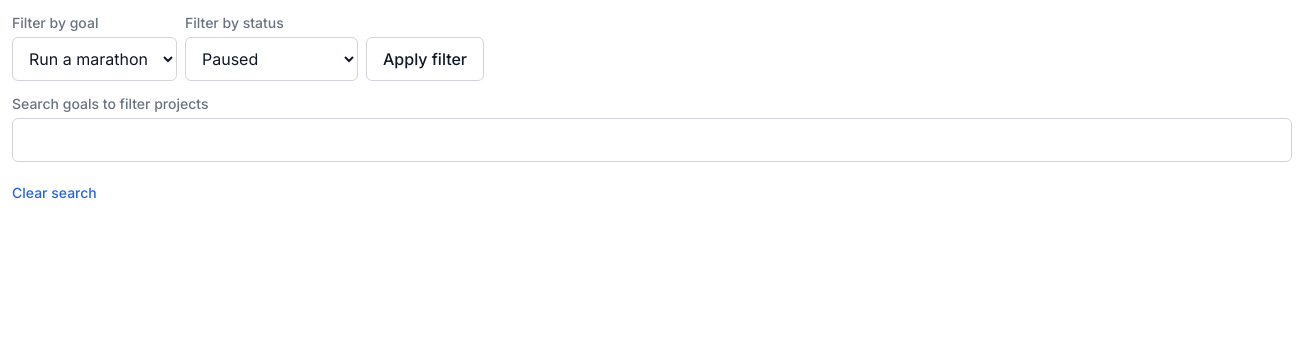
Test: ProjectFilterSelect › filters goal options locally while preserving the applied filter and URL state
expect the dropdown labelled "Filter by goal" shows "Run a marathon": met, box [12,37,177,81]
expect the dropdown labelled "Filter by status" shows "Paused": met, box [185,37,358,81]
Focus the dropdown labelled "Search goals to filter projects": x=652, y=140 [12,118,1292,162]
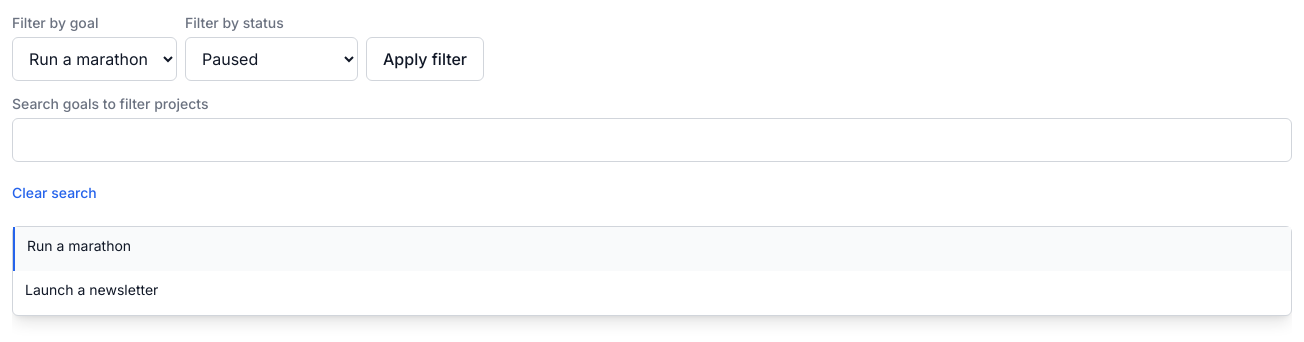
expect the number of options is 2: met, box [13,227,1291,271]; [25,281,158,298]
In the dropdown labelled "Search goals to filter projects": x=652, y=140 [12,118,1292,162], type "NEWSLETTER"
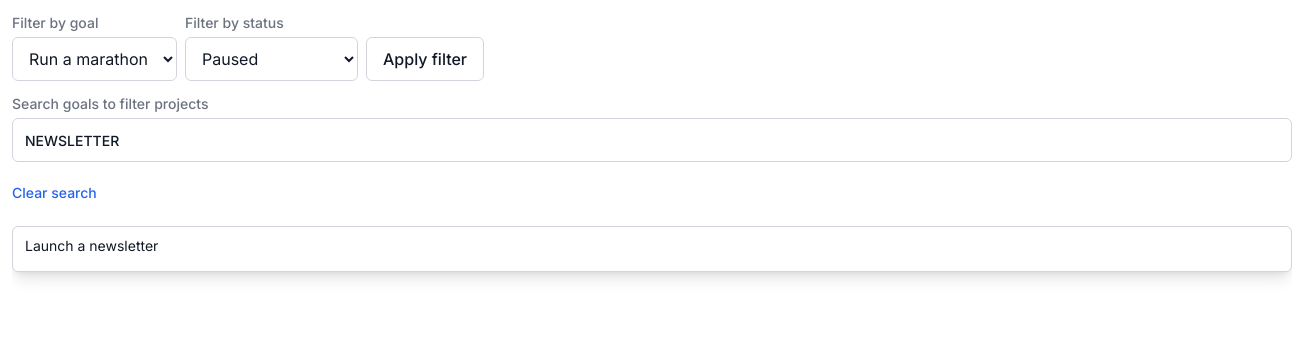
Click the option "Launch a newsletter": x=92, y=246 [25,237,158,254]
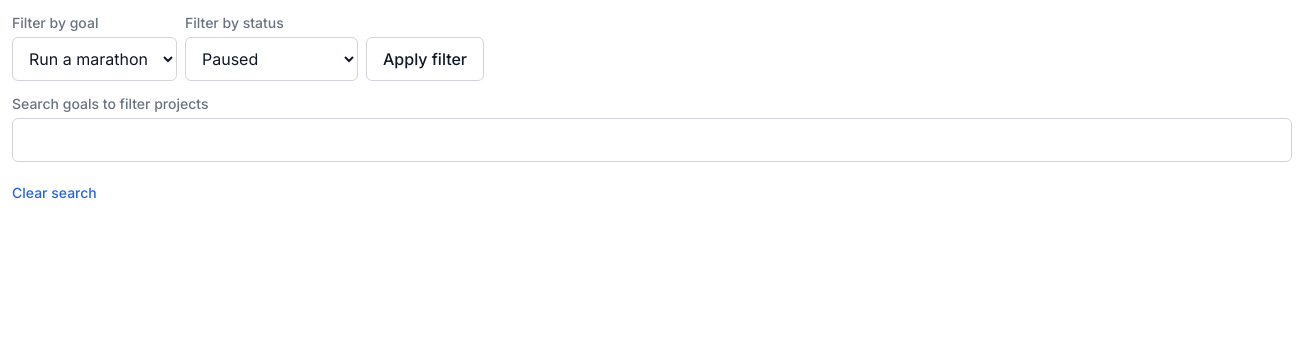
In the dropdown labelled "Search goals to filter projects": x=652, y=140 [12,118,1292,162], type "no such goal"
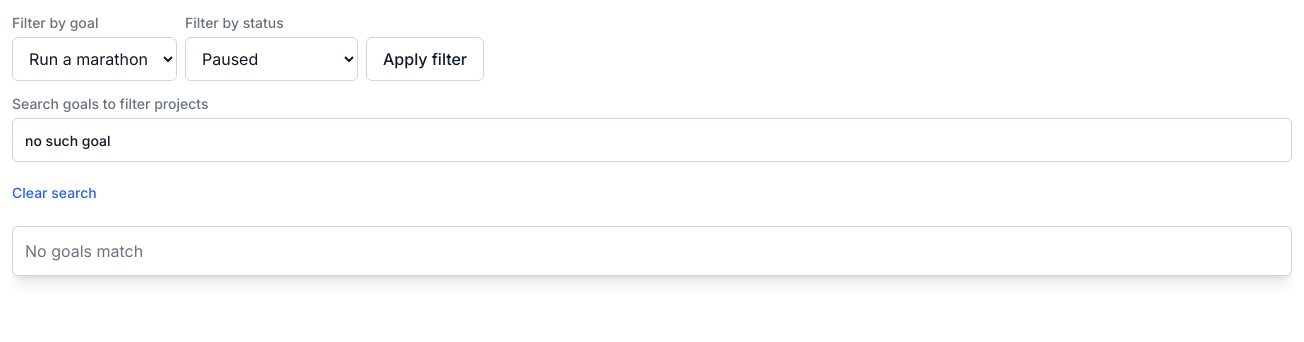
expect the dropdown labelled "Filter by goal" shows "Run a marathon": met, box [12,37,177,81]
expect the message reads "No goals match": met, box [25,241,143,261]
